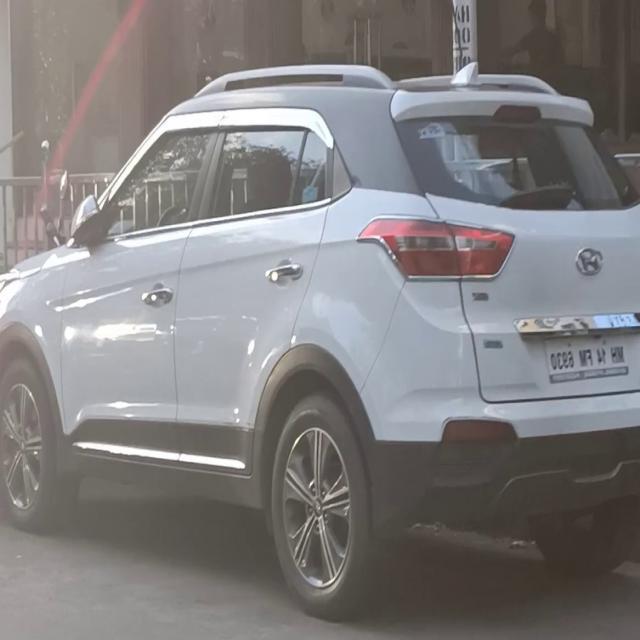license_plate: (538, 325, 634, 395)
